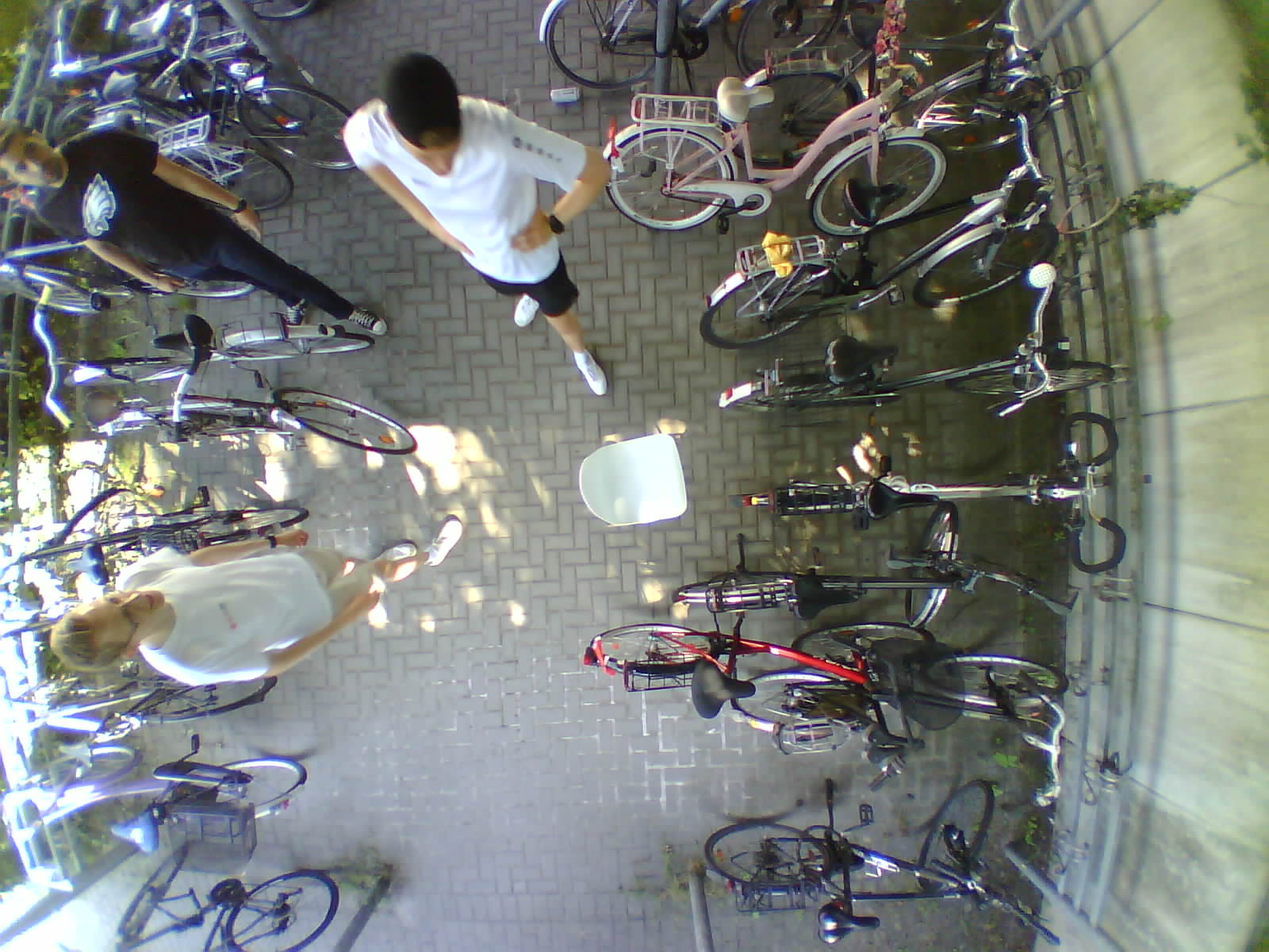bicylce: (700, 174, 1054, 349), (601, 83, 943, 233), (726, 27, 1054, 175), (702, 782, 995, 927), (720, 336, 1111, 428), (734, 656, 1067, 756), (675, 516, 979, 624), (17, 743, 309, 849), (55, 320, 375, 403), (80, 383, 418, 461), (586, 622, 939, 695), (53, 56, 341, 145), (27, 491, 312, 579), (109, 850, 341, 951), (734, 464, 1096, 528), (7, 672, 274, 746), (49, 29, 273, 113)
saddle: (690, 661, 755, 720), (826, 335, 901, 386), (845, 175, 904, 227), (796, 575, 859, 622), (815, 907, 880, 950), (718, 77, 776, 124), (867, 481, 939, 518), (155, 314, 214, 359), (863, 726, 923, 769), (64, 542, 110, 586), (111, 813, 158, 855), (81, 386, 127, 427), (124, 4, 173, 38), (844, 12, 891, 45), (57, 739, 100, 770), (103, 73, 142, 97)
